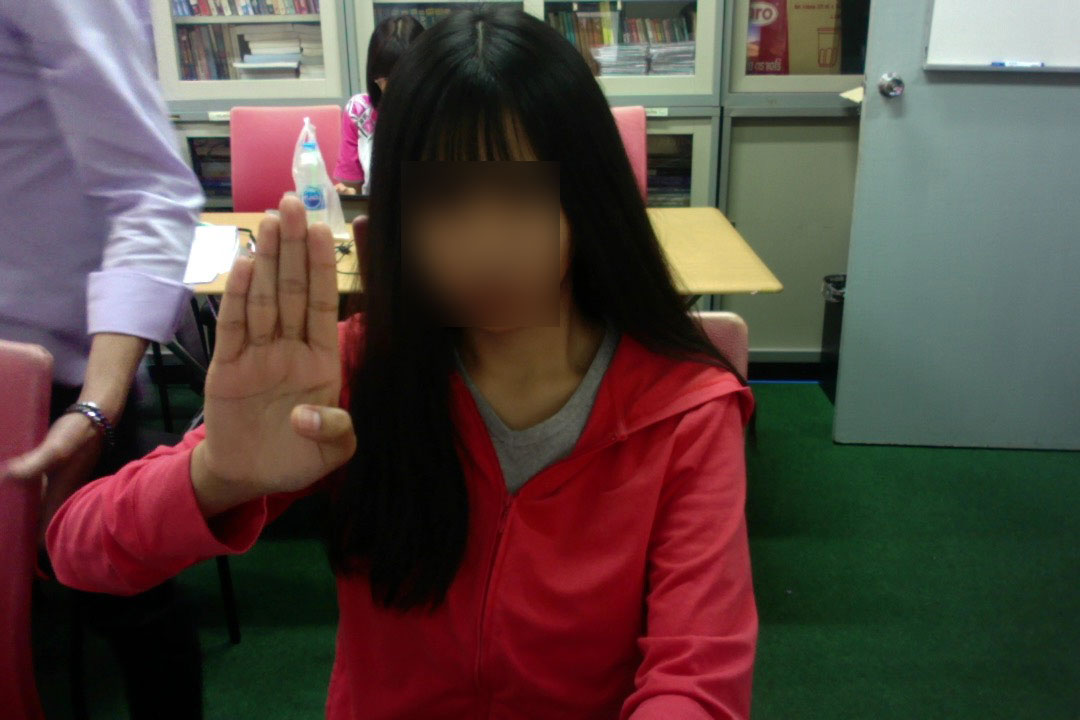bor: (198, 187, 363, 508)
